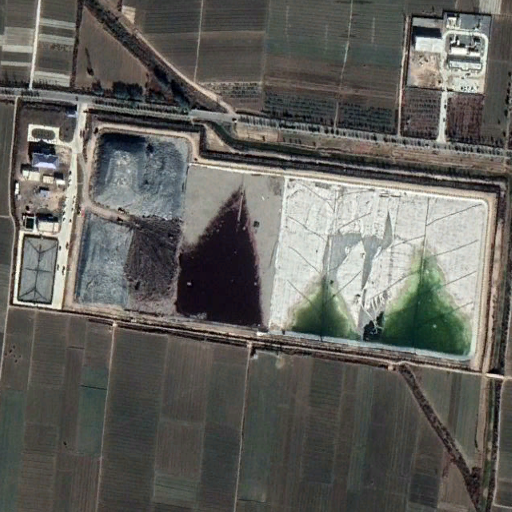lf: (73, 122, 488, 370)
